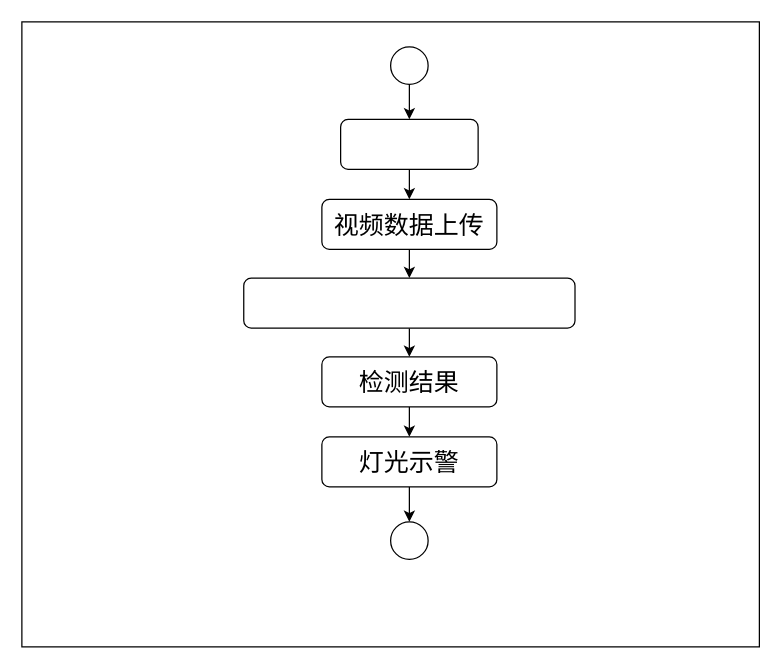
Image size: 781x669. Some labels were removed from this diagram. Each missing label, with the box of its shape:
图像采集: (339, 118, 478, 169)
改进的YOLOv8-seg模型: (242, 277, 575, 328)
